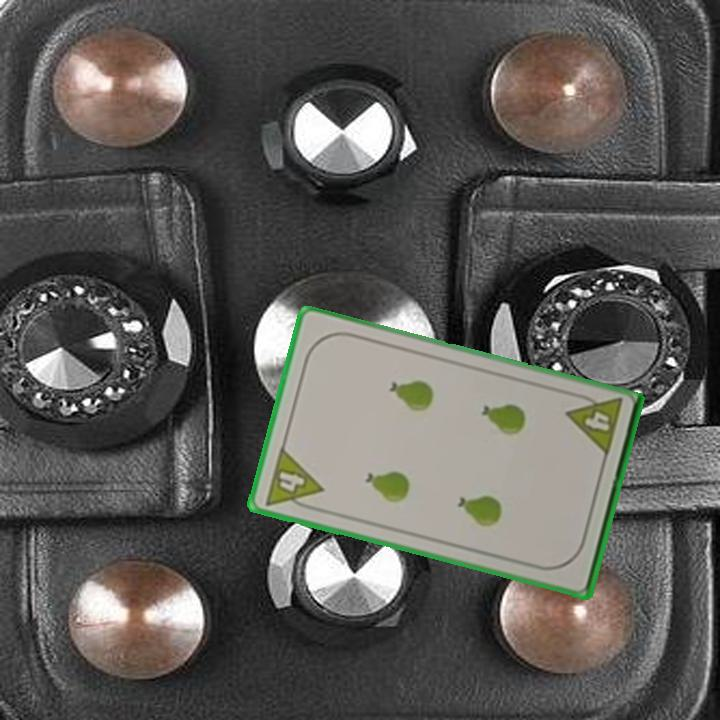4p: (260, 444, 326, 515), (563, 389, 626, 461)
